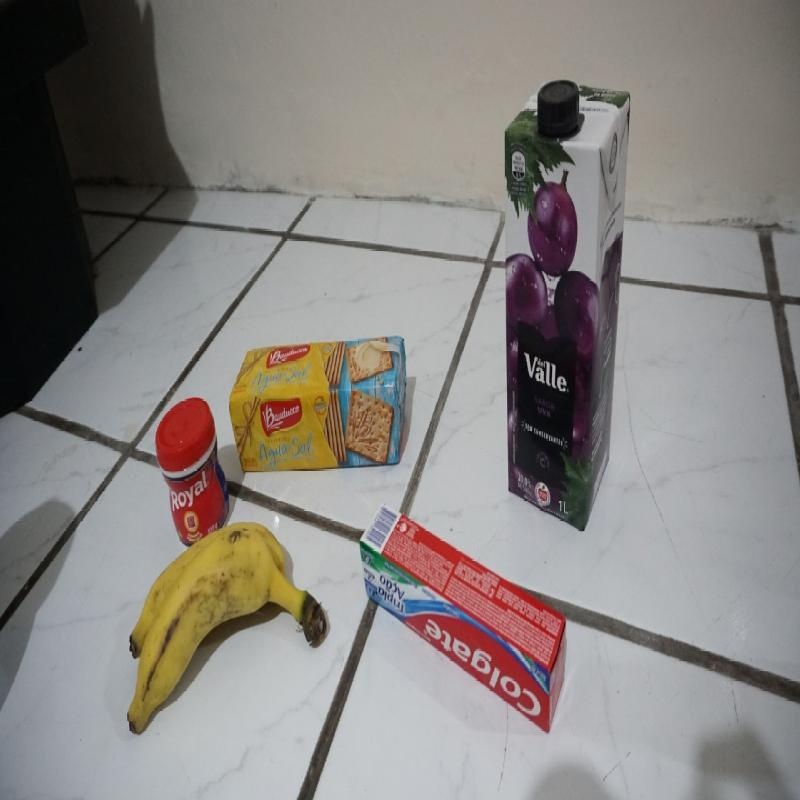Banana: (119, 538, 325, 714)
Cracker: (231, 348, 412, 470)
Toothpaste: (360, 509, 571, 712)
Yeast: (153, 402, 236, 534)
